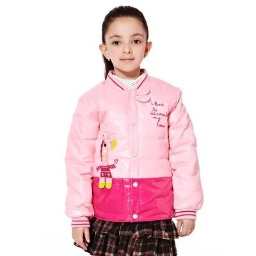face: (95, 2, 161, 80)
